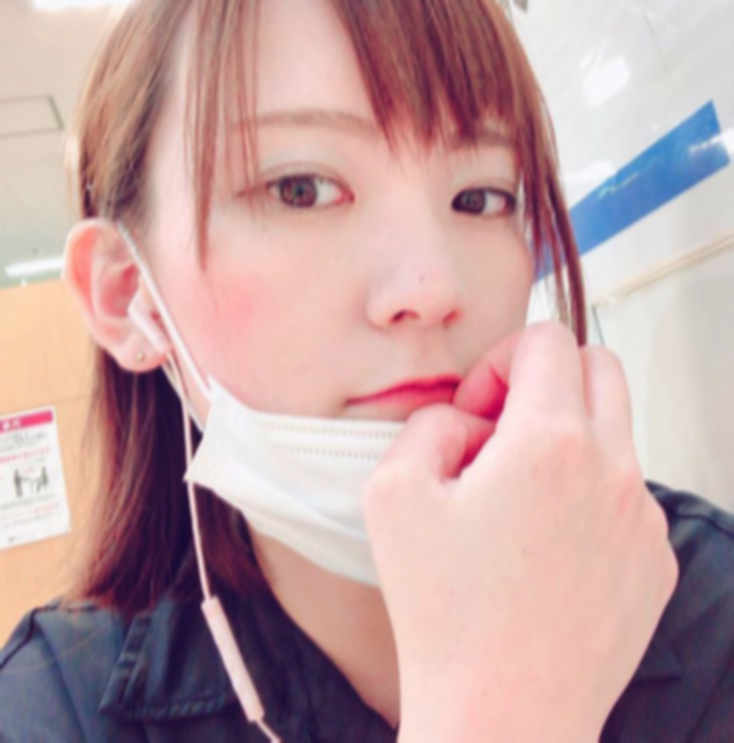mask_weared_incorrect: (68, 0, 539, 575)
